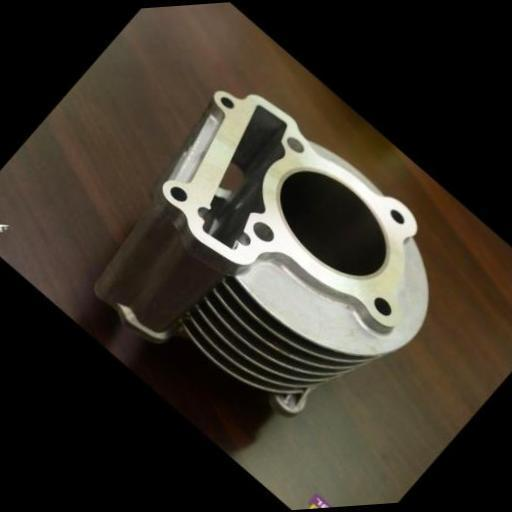hole: (246, 214, 284, 250), (367, 290, 401, 324), (382, 203, 412, 231), (282, 132, 310, 160)
